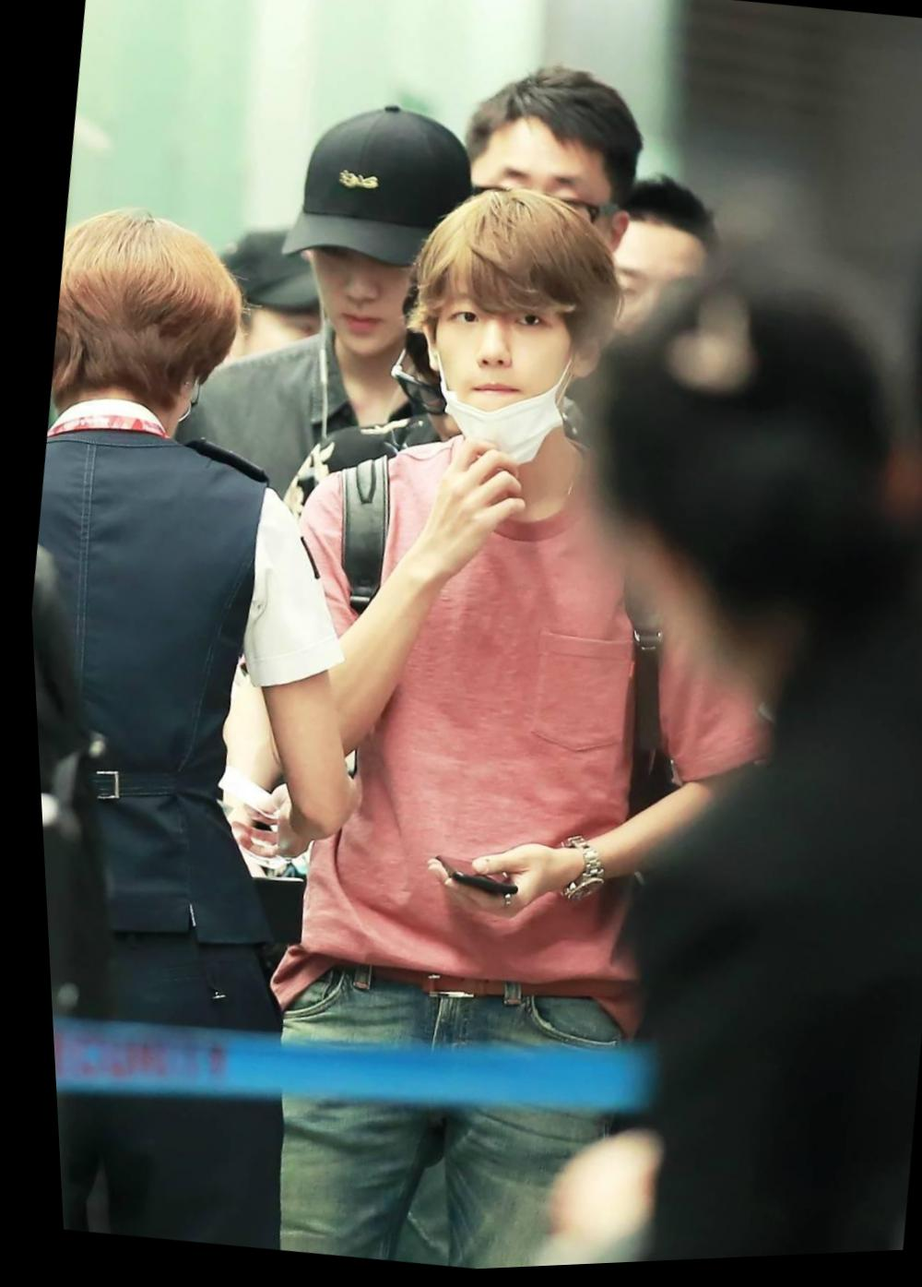NONE: (284, 218, 443, 371)
WRONG: (408, 258, 628, 477)
